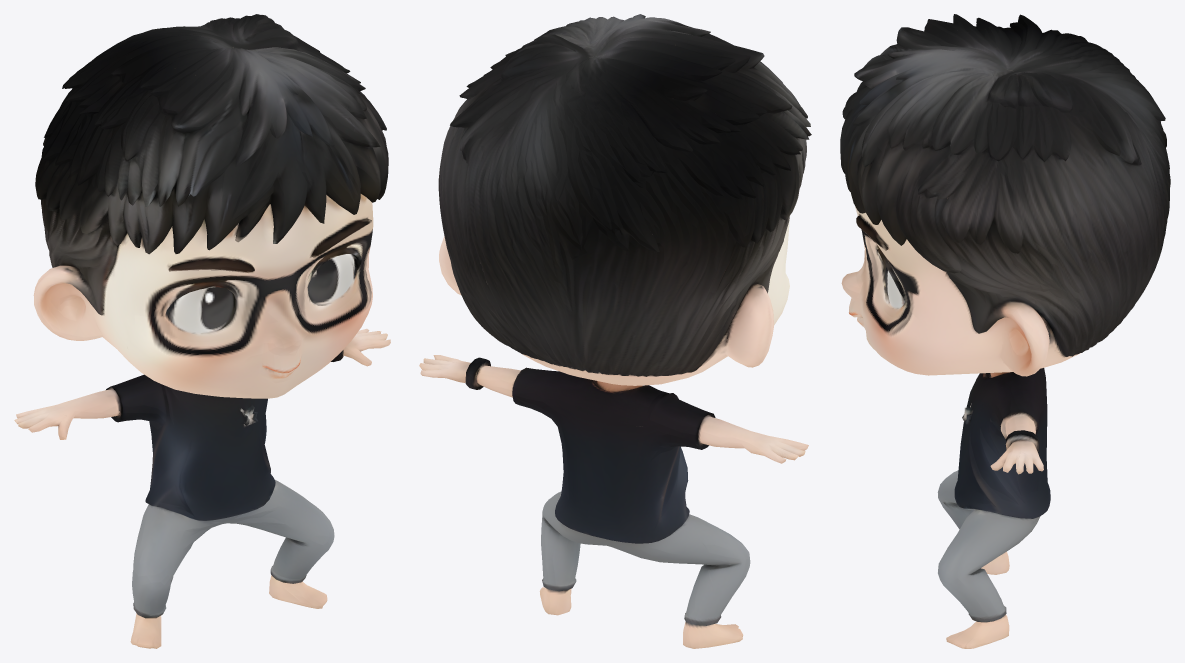
Rendered from base_basic_shaded.fbx.
The picture shows the model from 3 angles, left to right: view 1: azimuth 30°, elevation 25°; view 2: azimuth 150°, elevation 25°; view 3: azimuth 270°, elevation 25°; orthographic projection. The views are drawn at different scales.
Visible parts, largest first — view 1: model; view 2: model; view 3: model.
Boxes of the visible parts, box(x1,y1,x2,y2) form: model: box(14, 14, 390, 648); model: box(419, 14, 811, 648); model: box(840, 14, 1170, 648).
Bounding box in the file's own units: 128 × 187 × 100.
